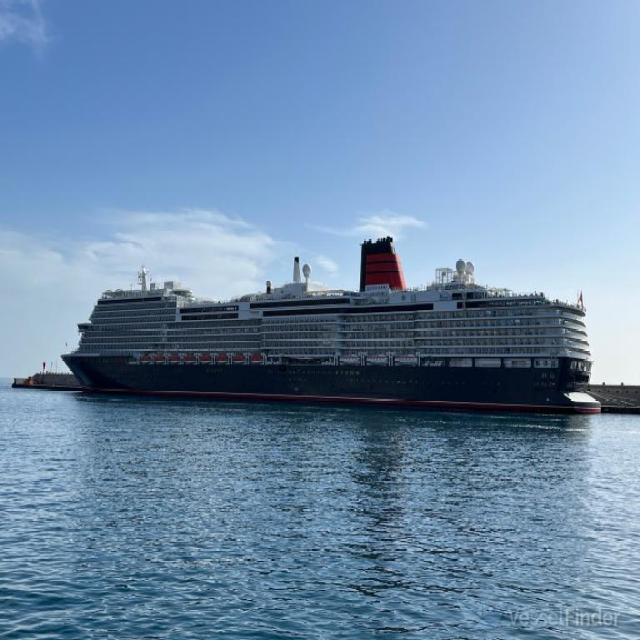PassengerShip: (55, 103, 637, 485)
